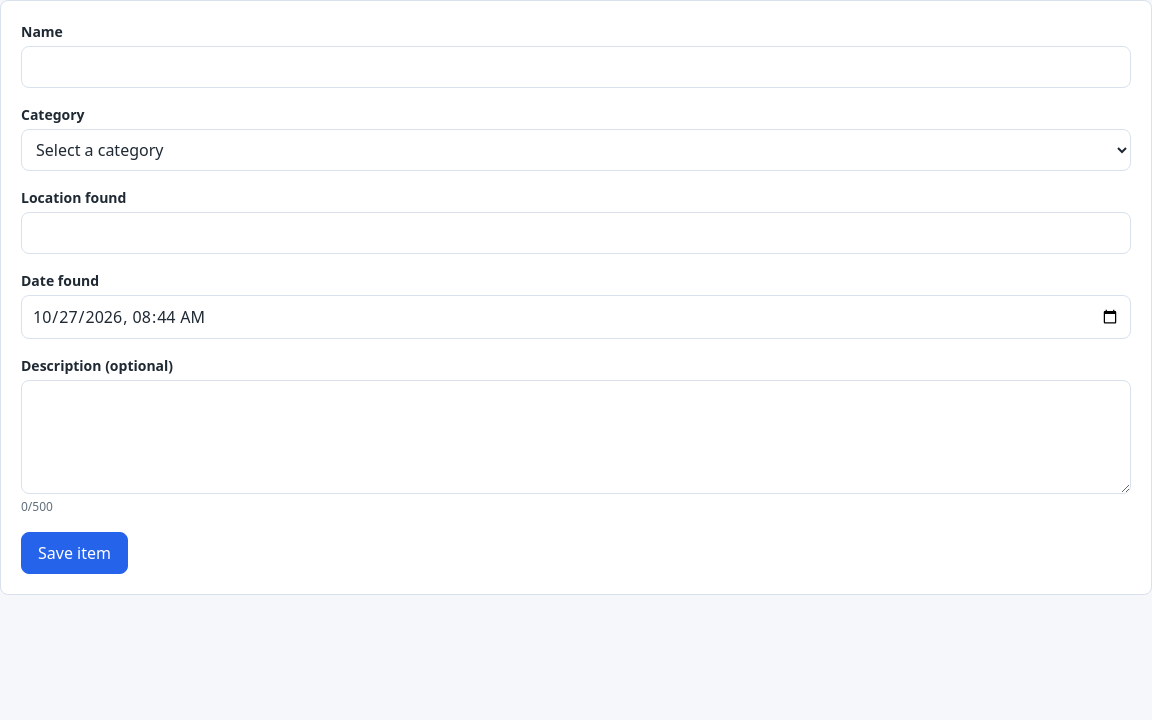
Test: ItemForm › rejects a foundAt in the future
This screenshot has width=1152, height=720.
Type "Blue umbrella" into the field labelled "Name". click: (576, 67)
box: 21,46 -> 1131,88
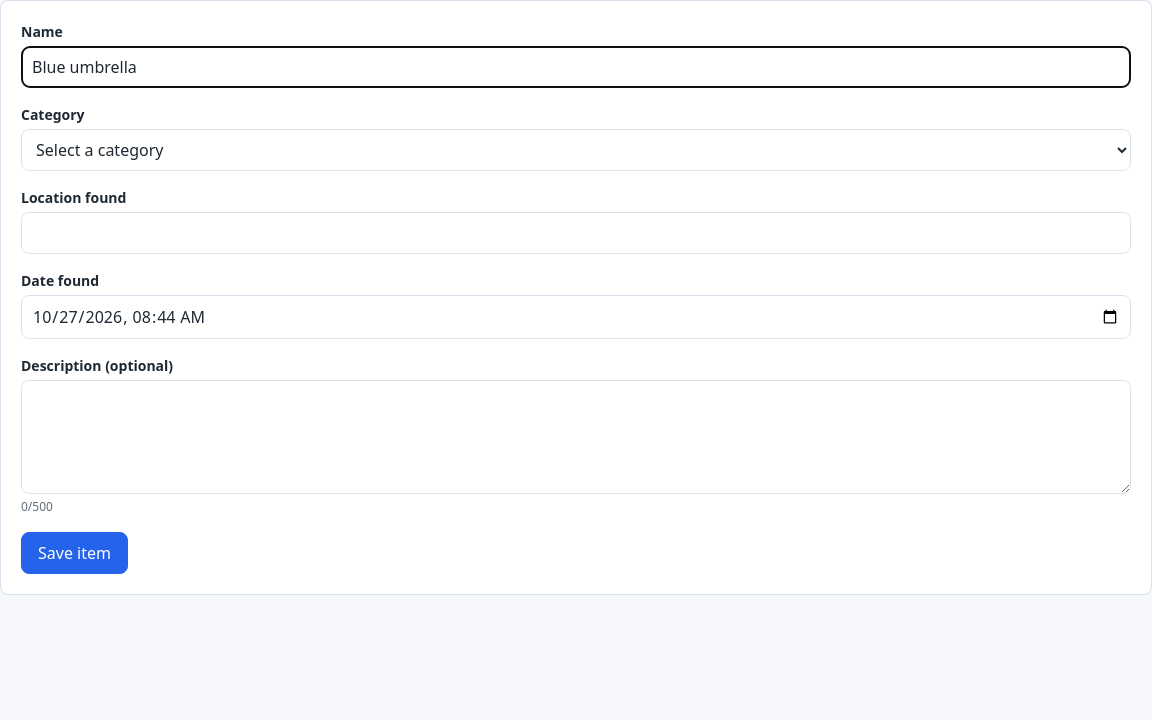
Select "Other" in the dropdown labelled "Category". click: (576, 150)
box: 21,129 -> 1131,171
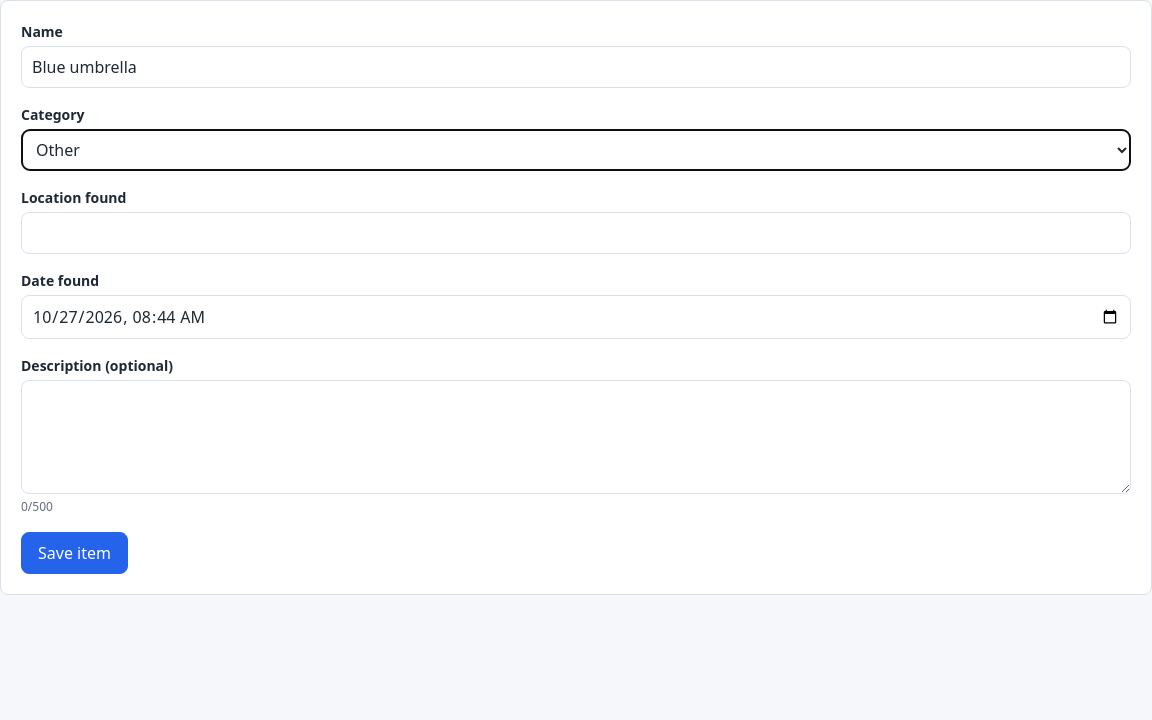
Type "Lobby" into the field labelled "Location found". click: (576, 233)
box: 21,212 -> 1131,254
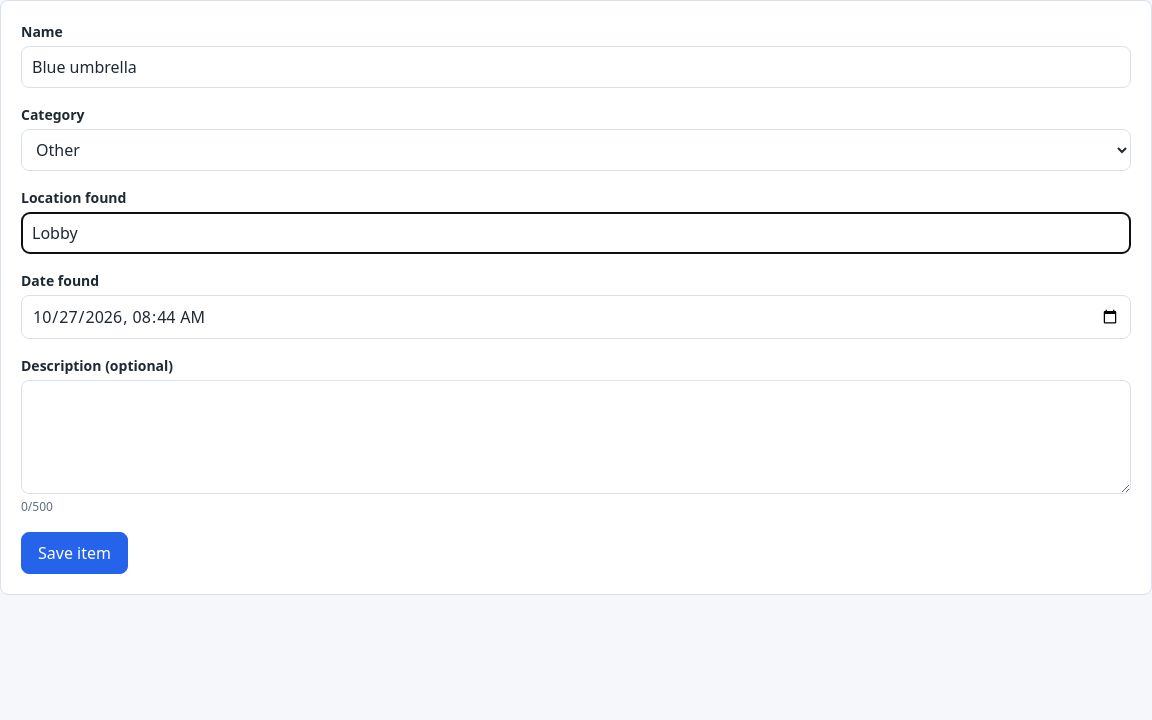
Replace the text in the field labelled "Date found" with "2999-01-01T10:00". click: (576, 317)
box: 21,295 -> 1131,339
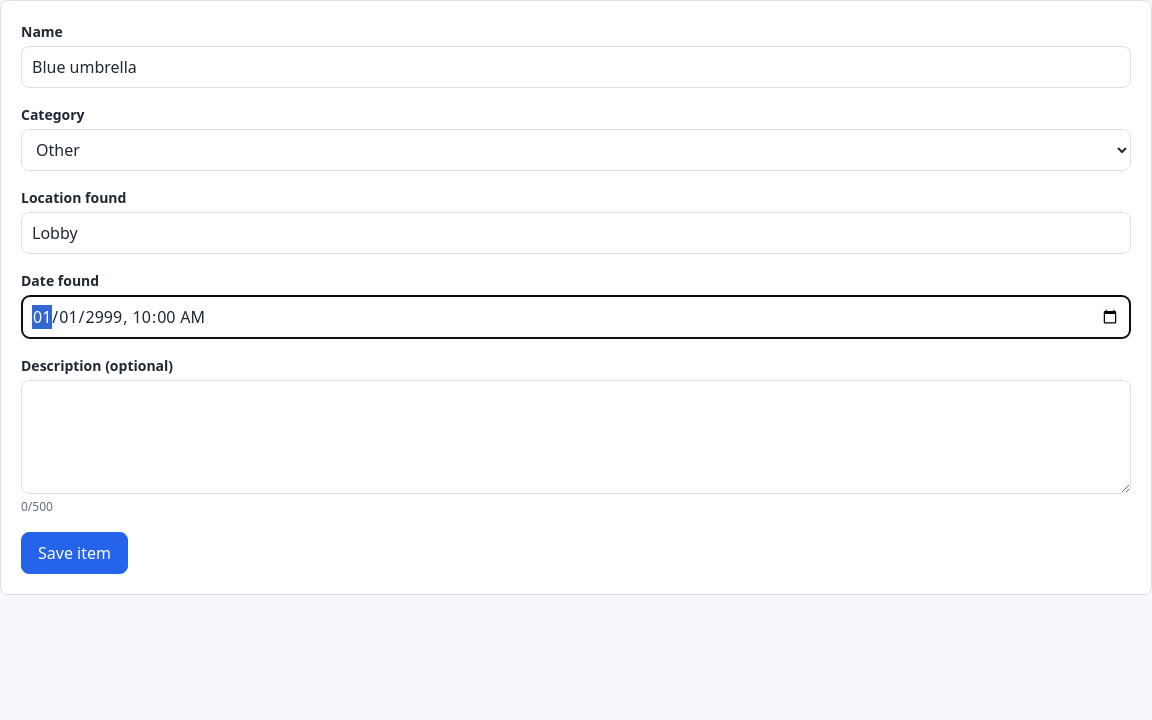
Click the button "Save item". click: (74, 553)
box: 21,532 -> 128,574
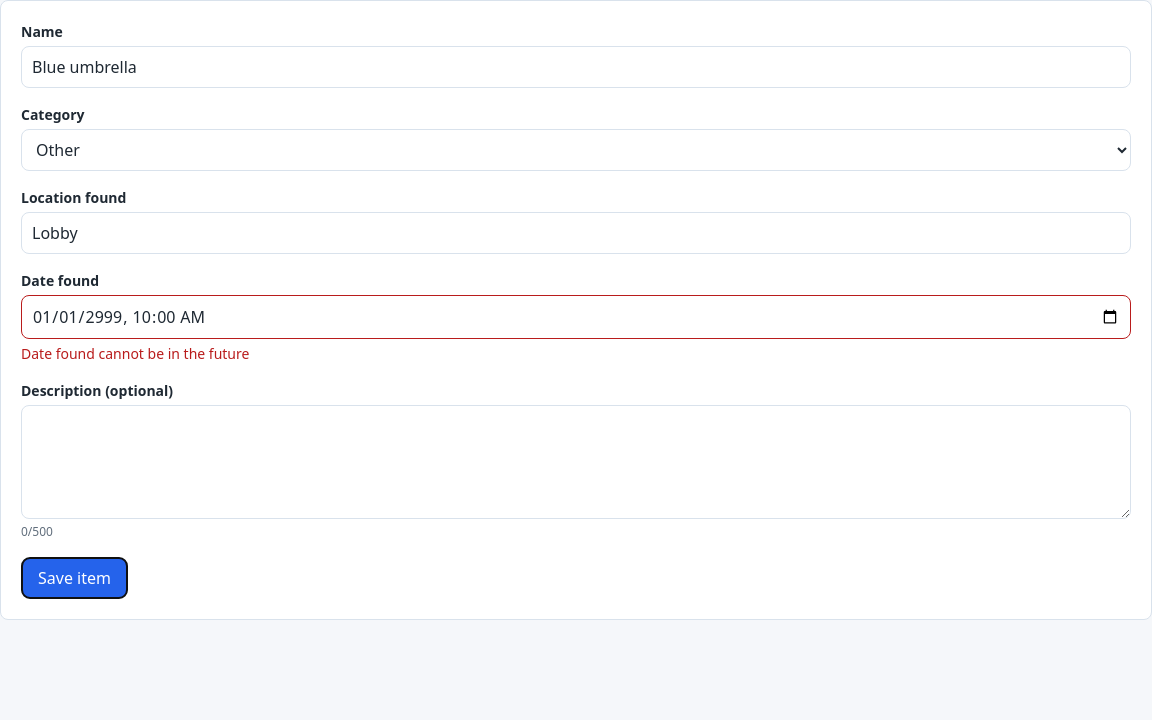
Expected: the text "Date found cannot be in the future" is shown, 21,344 -> 249,363
